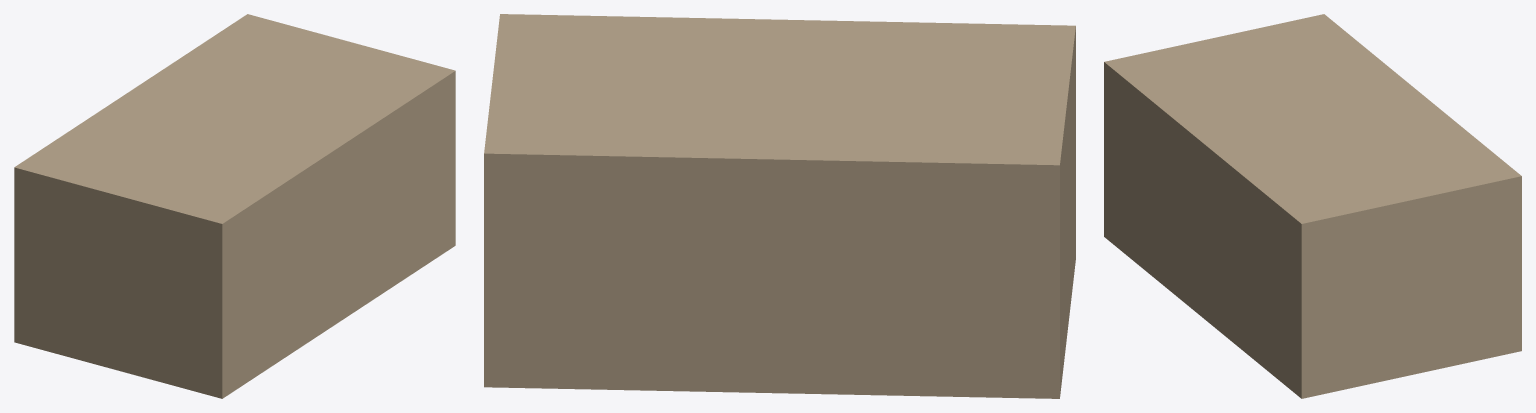
Rendered from bld_101353635.dae.
The picture shows the model from 3 angles, left to right: view 1: azimuth 30°, elevation 25°; view 2: azimuth 150°, elevation 25°; view 3: azimuth 270°, elevation 25°; orthographic projection. The views are drawn at different scales.
Visible parts, largest first — view 1: bld_101353635; view 2: bld_101353635; view 3: bld_101353635.
Part boxes in pixels (<box>): bld_101353635: <box>14,14,455,398</box>; bld_101353635: <box>484,14,1075,398</box>; bld_101353635: <box>1104,14,1521,398</box>.
Bounding box in the file's own units: 20.59 × 17.32 × 8.
